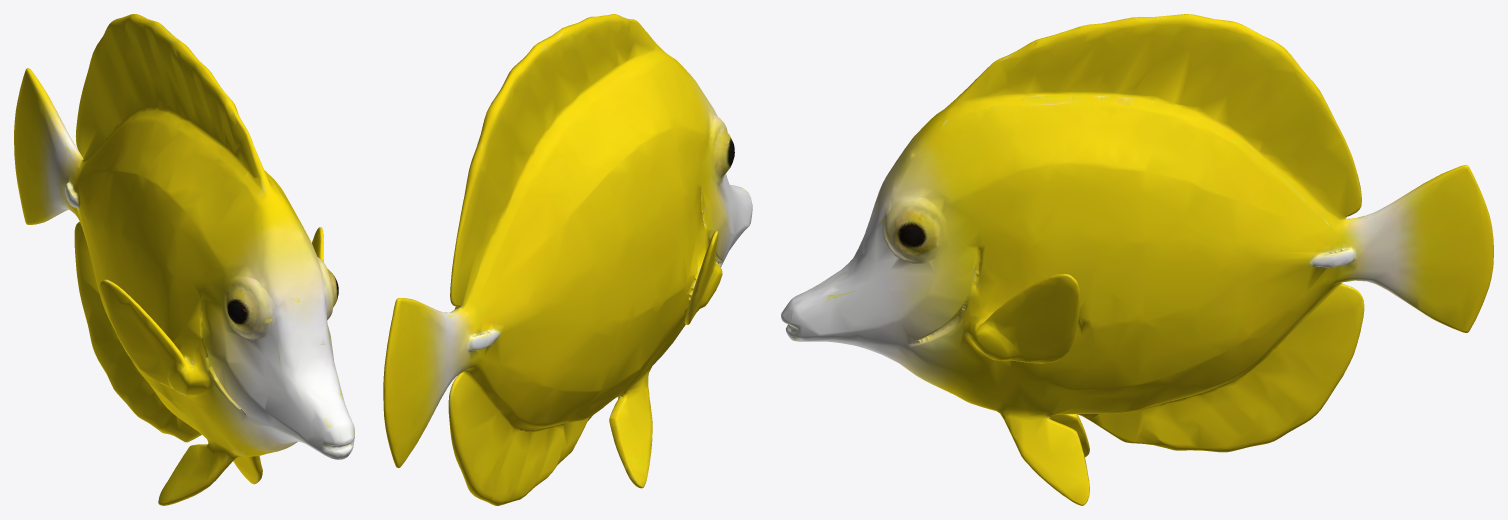
Rendered from fish_yellow_tang.glb.
3 views of the same model, side by side, from view 1: azimuth 30°, elevation 25°; view 2: azimuth 150°, elevation 25°; view 3: azimuth 270°, elevation 25° (orthographic). The views are drawn at different scales.
Parts seen in each view (by area): view 1: Mesh_0; view 2: Mesh_0; view 3: Mesh_0.
Part boxes in pixels (left/top/right/bottom): Mesh_0: left=14, top=14, right=354, bottom=505; Mesh_0: left=383, top=14, right=752, bottom=505; Mesh_0: left=781, top=14, right=1493, bottom=505.
Bounding box in the file's own units: 0.7283 × 1.38 × 1.91.
Materials: 1 (1 with a texture image).
